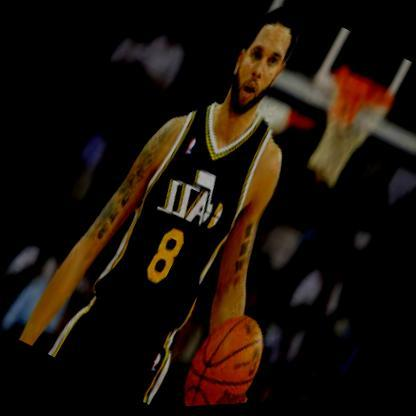basketball: (167, 304, 279, 409)
